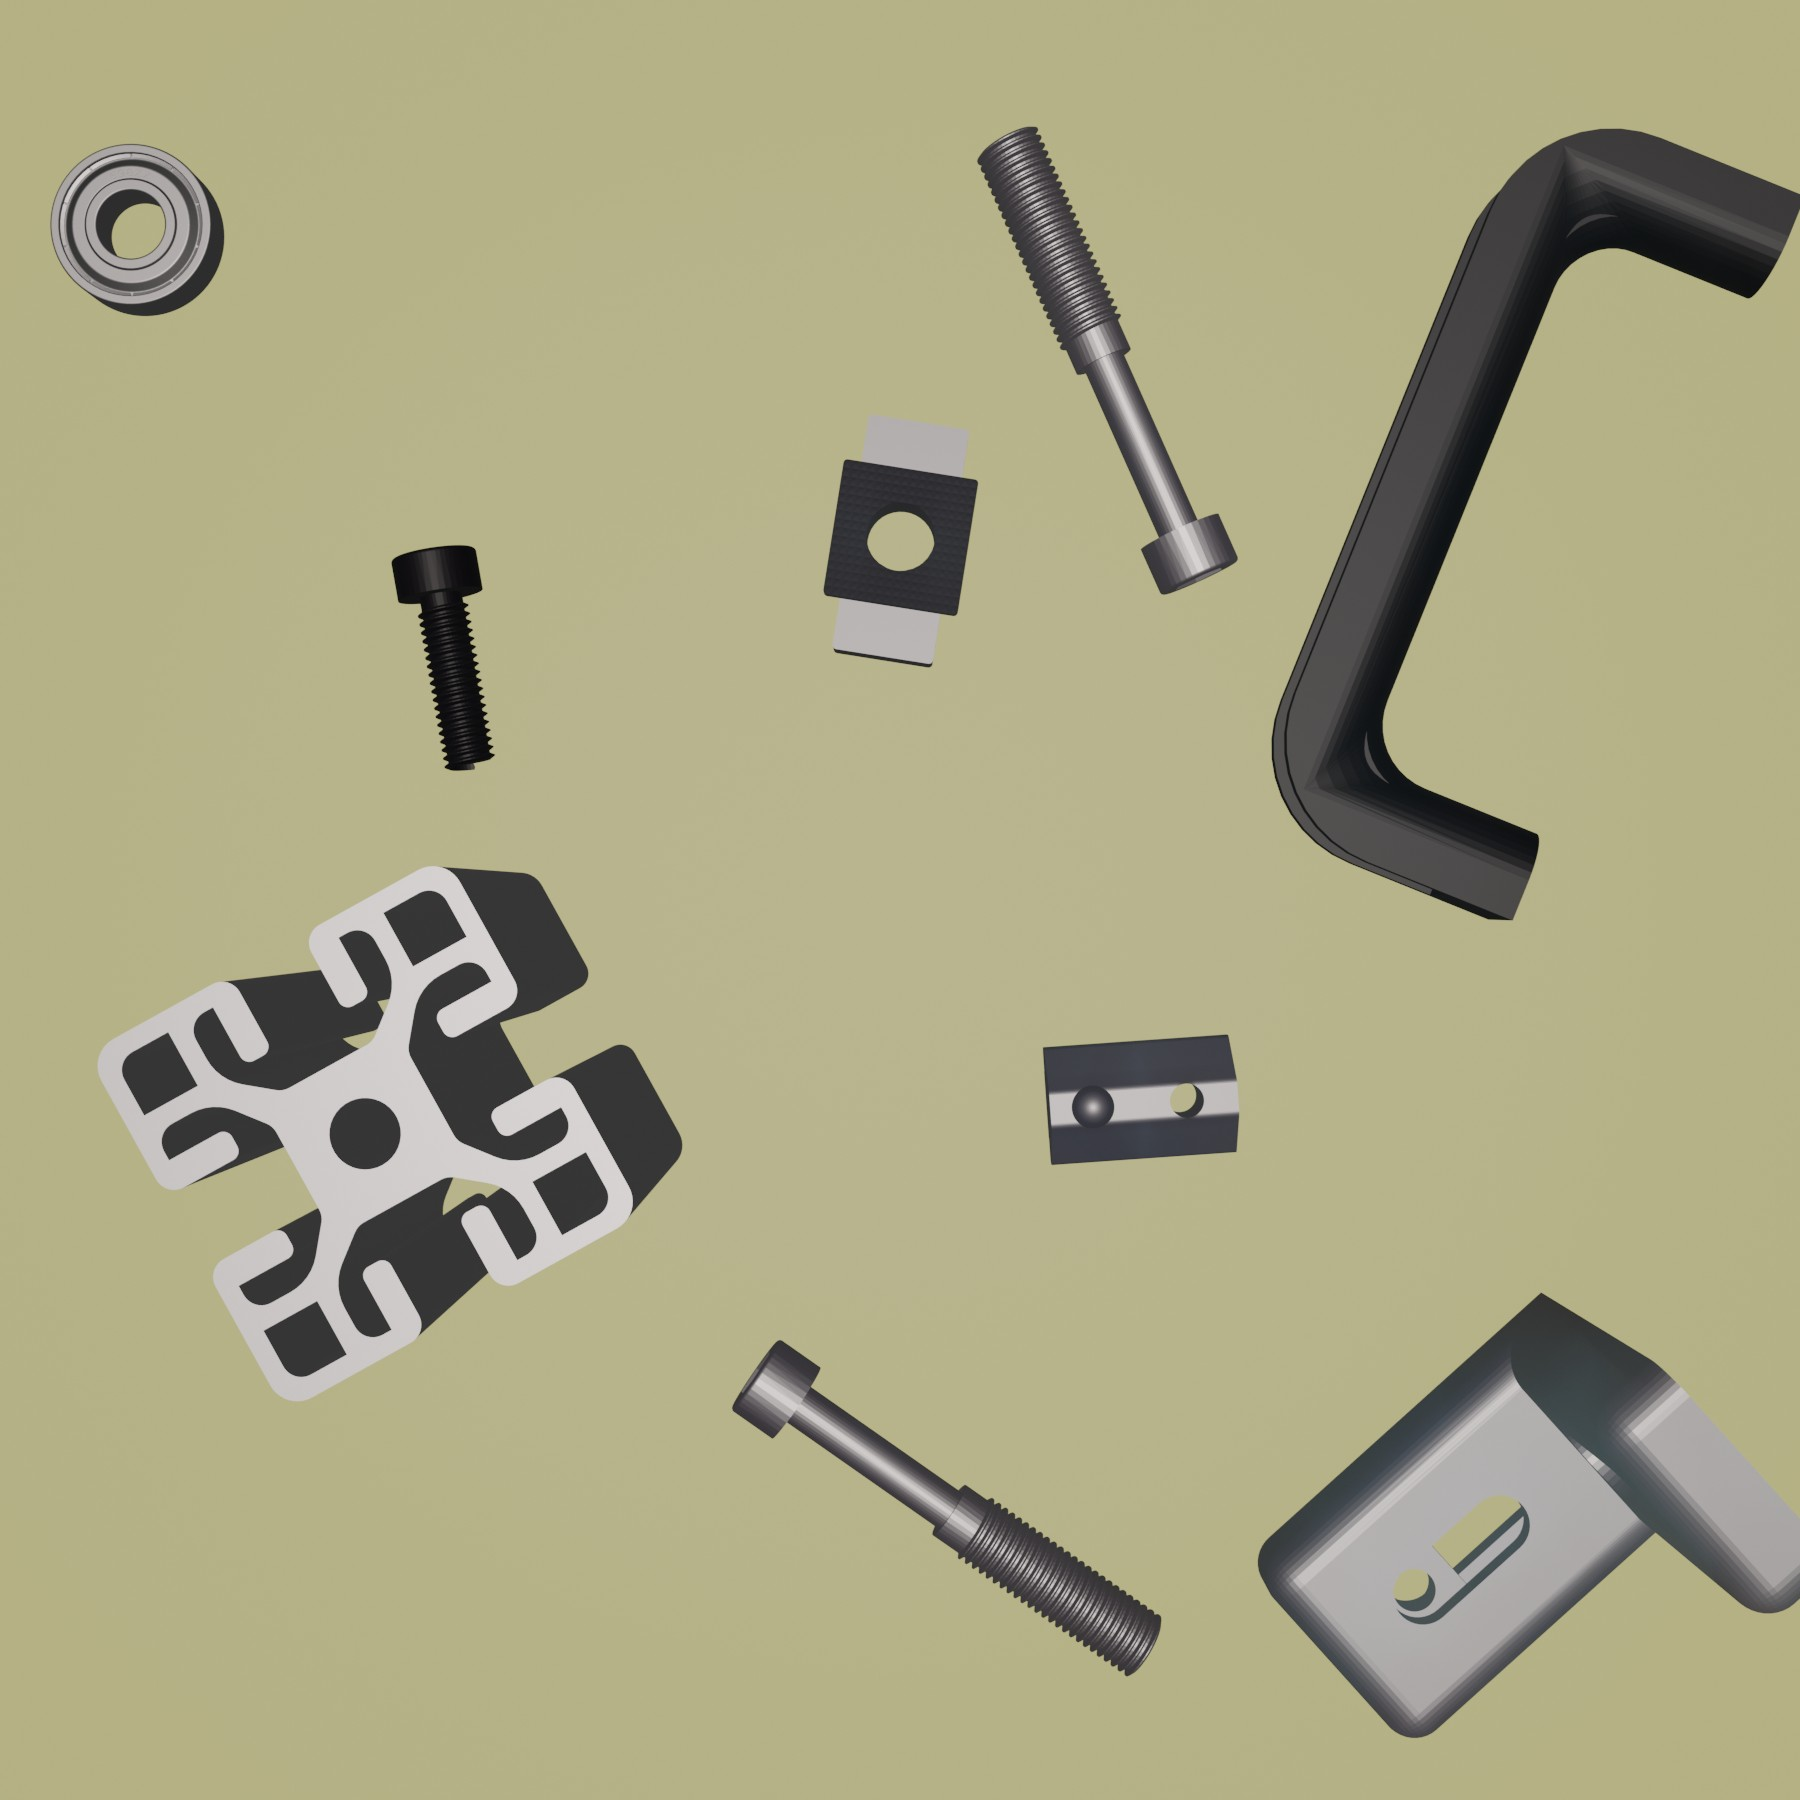Aluminium Extension: (94, 859, 686, 1409)
Ball Bearing: (46, 138, 227, 318)
Multiwinkel: (1256, 1286, 1800, 1739)
Pull Handle: (1269, 124, 1800, 926)
Shoulder Socket Head Cap Screw: (725, 1334, 1162, 1681), (974, 120, 1240, 600)
Socket Head Cap Screw: (387, 541, 501, 778)
T Nut Square: (816, 404, 982, 673)
T Spring Nut: (1040, 1030, 1245, 1169)
